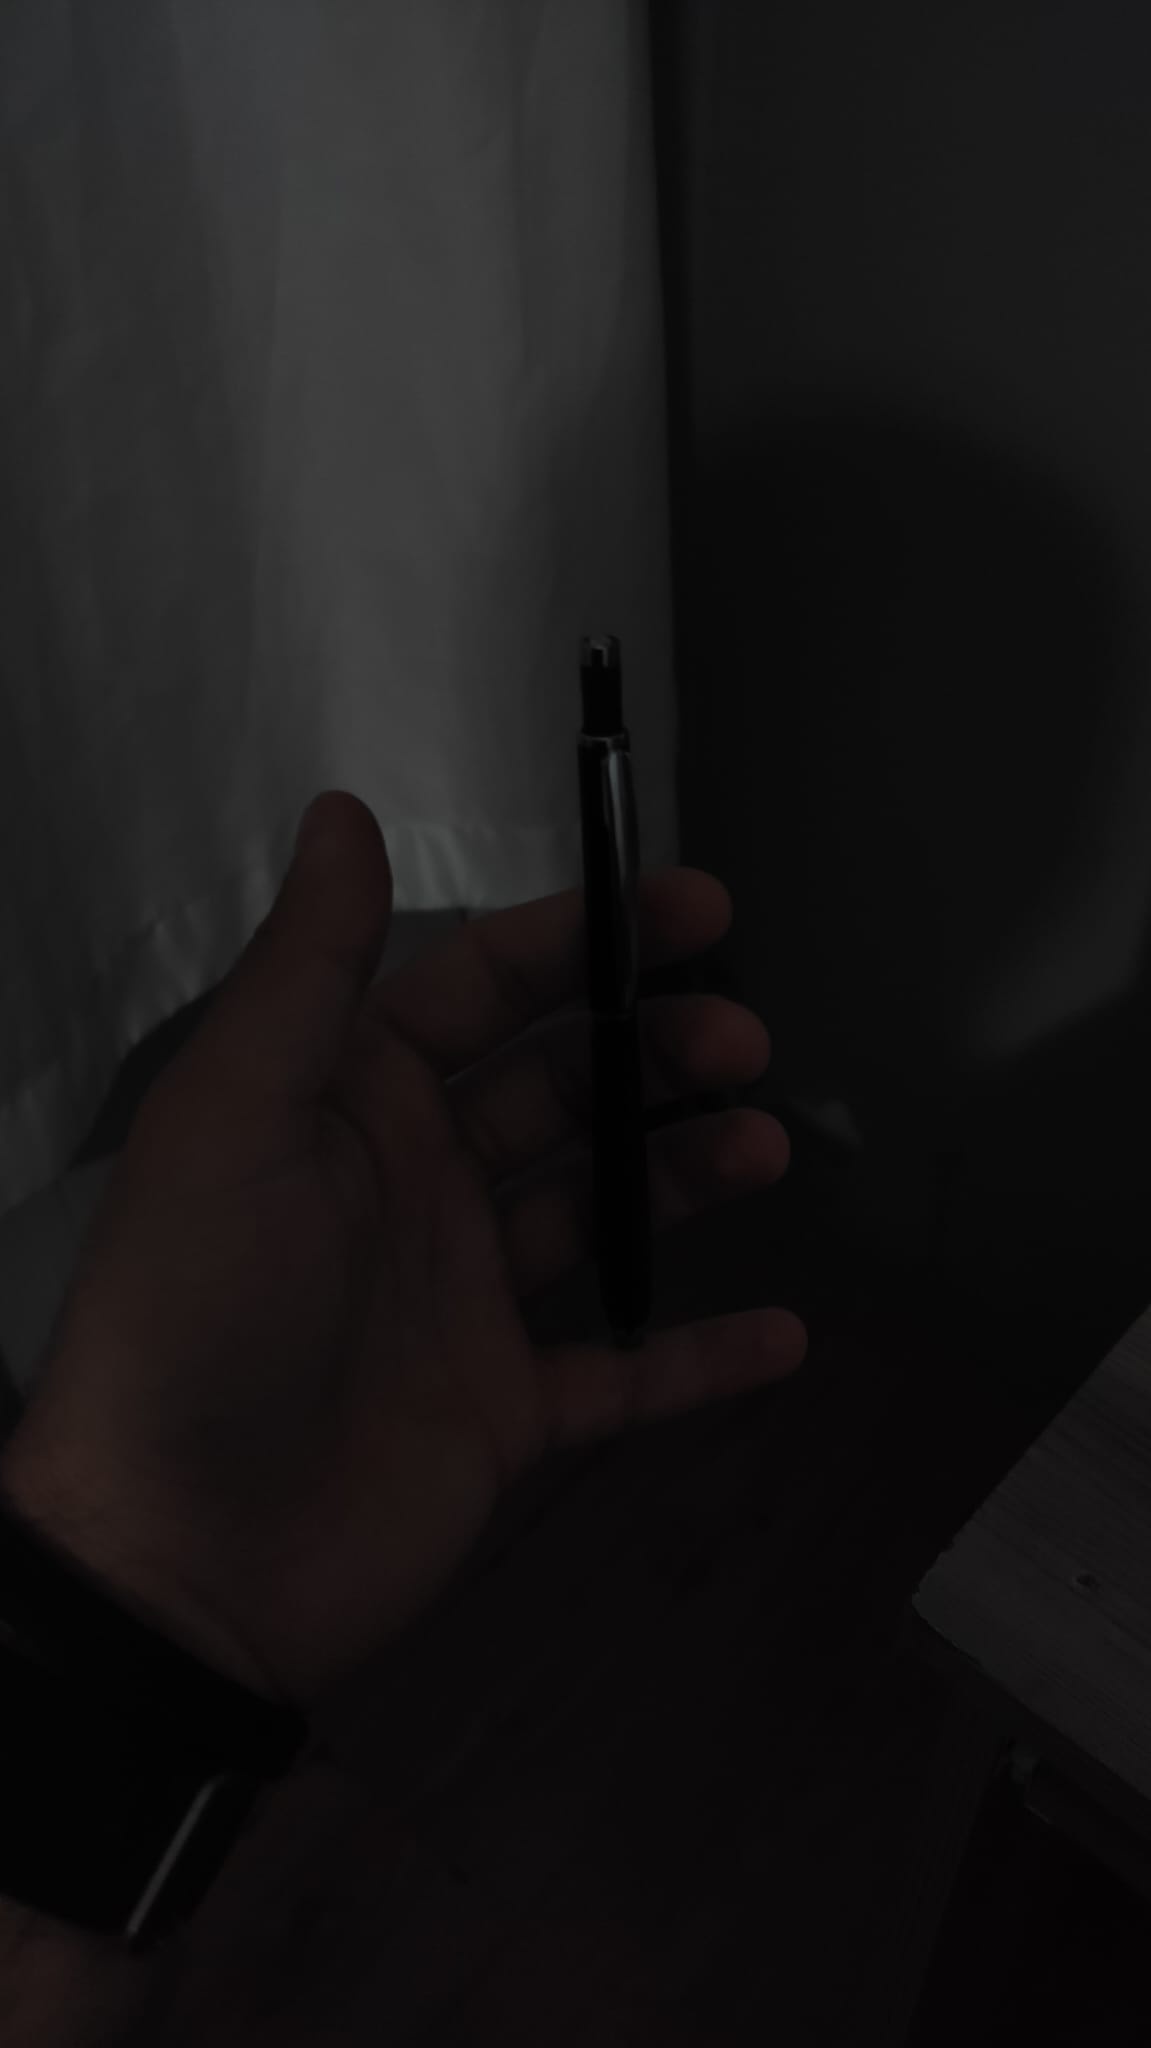kalem: (574, 634, 651, 1332)
